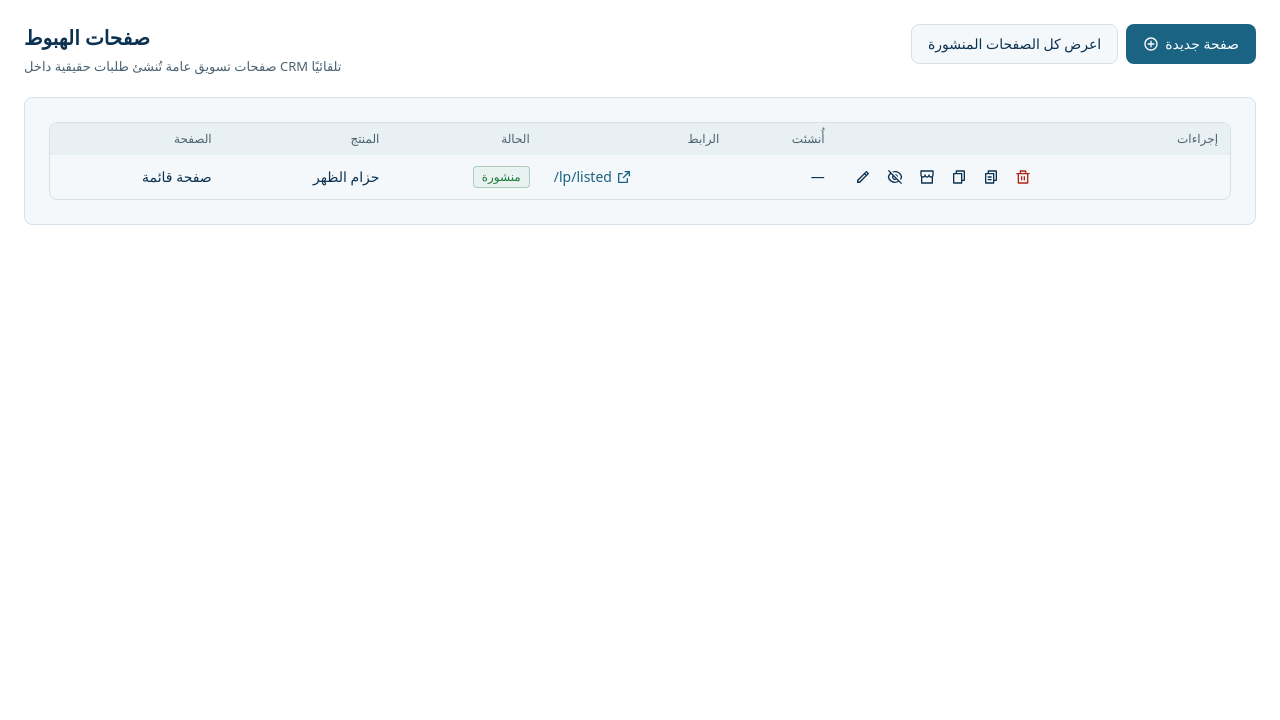
Test case: the two starting points › and the product is asked for FIRST, because every preview after it sells it
This screenshot has width=1280, height=720.
Click the button "صفحة جديدة" at [1191, 44], box [1126, 24, 1256, 64]
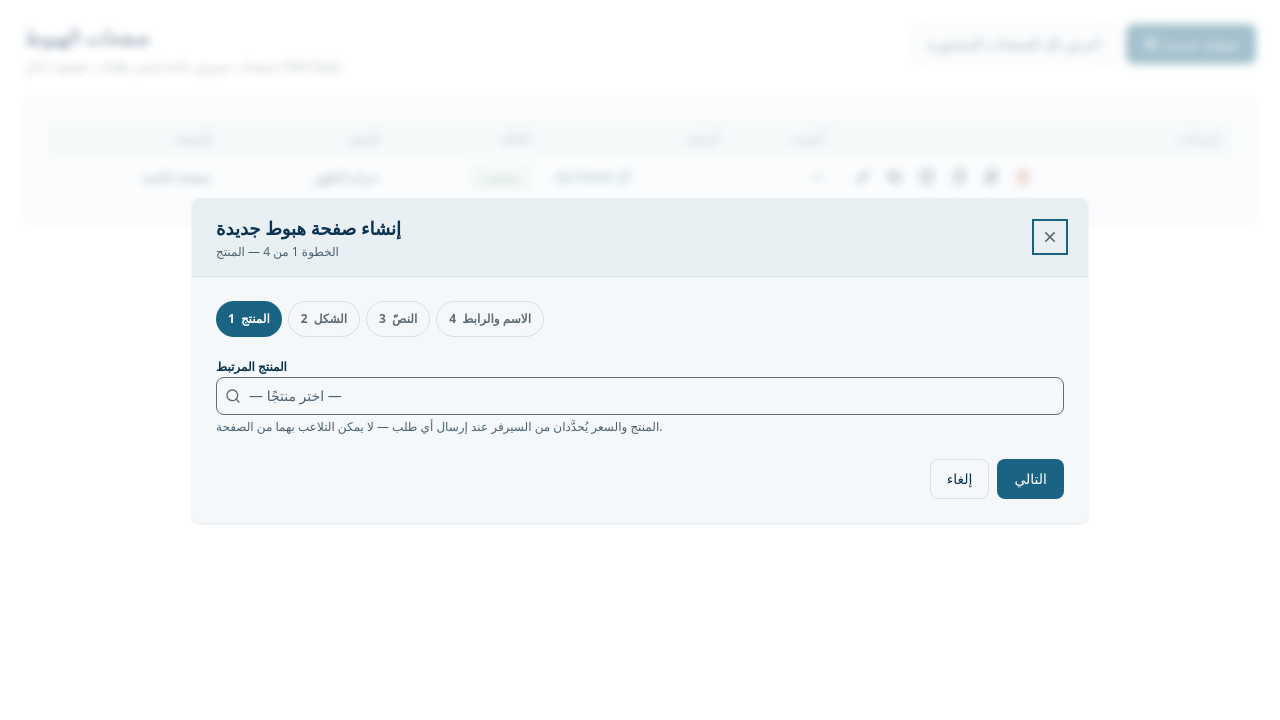
Expected: the button "— اختر منتجًا —" is shown, [249, 378, 1055, 414]
